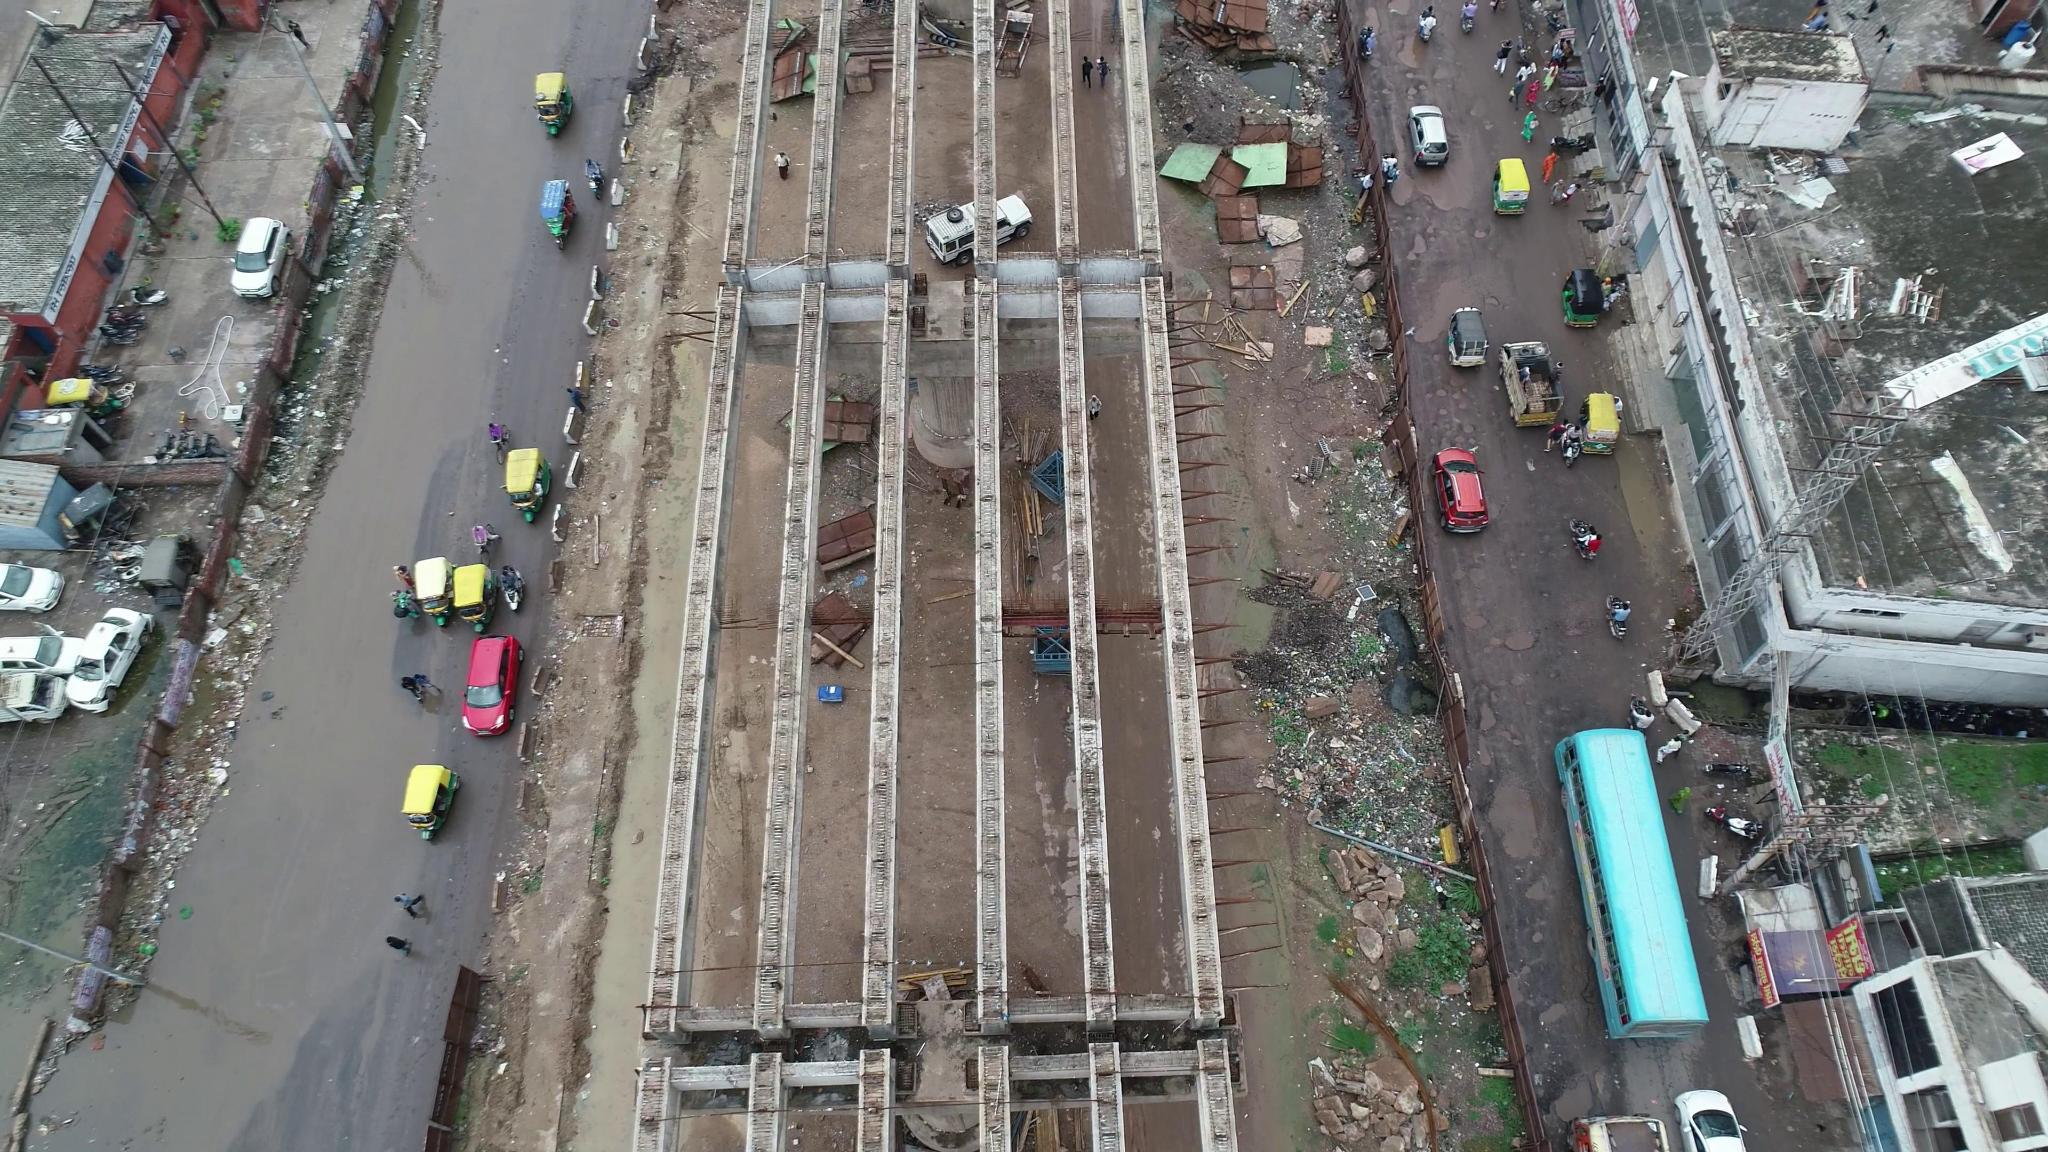Potholes: (1464, 542, 1546, 672), (1471, 677, 1559, 793), (1400, 188, 1487, 283), (1419, 376, 1488, 461), (1393, 38, 1466, 110)
Waterlogging: (376, 105, 536, 464), (274, 471, 439, 776)
